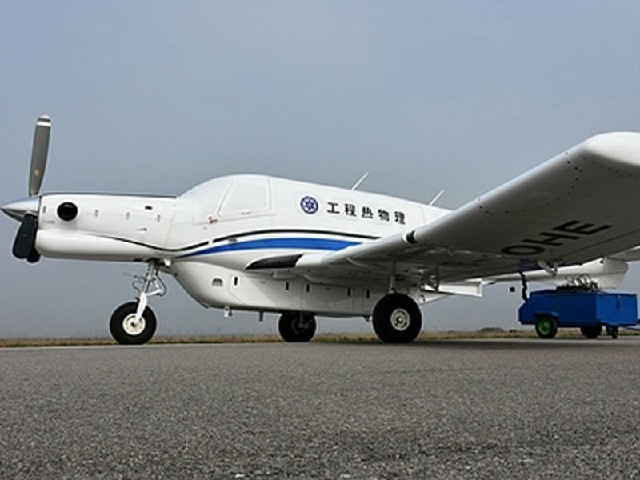maybay_khongnguoilai: (21, 110, 640, 351)
